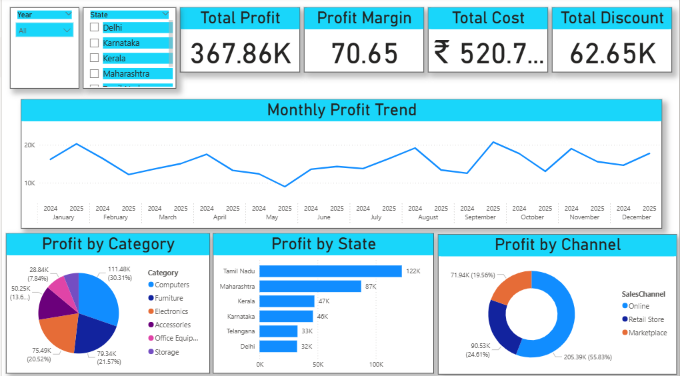

What the dashboard file says about the page in this screenshot:
{"tool":"powerbi","page":{"name":"Profit Analysis","canvas":[1280,720],"ordinal":2},"visuals":[{"type":"card","title":"Total Profit","fields":{"Values":["Sum(Sales.Profit)"]},"box":[336.4,18.9,226.8,122.8],"z":0},{"type":"card","title":"Profit Margin","fields":{"Values":["Sales.Profit Margin"]},"box":[570.7,18.9,226.8,122.8],"z":1000},{"type":"card","title":"Total Cost","fields":{"Values":["Sum(Sales.TotalCost)"]},"box":[805,18.9,226.8,122.8],"z":2000},{"type":"card","title":"Total Discount","fields":{"Values":["Sum(Sales.DiscountAmountt)"]},"box":[1039.4,18.9,226.8,122.8],"z":3000},{"type":"lineChart","title":"Monthly Profit Trend","fields":{"Category":["DimDate.Month","DimDate.Year"],"Y":["Sum(Sales.Profit)"]},"box":[35.9,192.8,1211.3,243.8],"z":4000},{"type":"pieChart","title":"Profit by Category","fields":{"Category":["Products.Category"],"Y":["Sum(Sales.Profit)"]},"box":[7.6,446,385.5,264.6],"z":5000},{"type":"clusteredBarChart","title":"Profit by State","fields":{"Category":["DimState.State"],"Y":["Sum(Sales.Profit)"]},"box":[398.7,446,417.6,264.6],"z":6000},{"type":"donutChart","title":"Profit by Channel","fields":{"Category":["Sales.SalesChannel"],"Y":["Sum(Sales.Profit)"]},"box":[823.9,447.9,451.7,264.6],"z":7000},{"type":"slicer","fields":{"Values":["DimDate.Year"]},"box":[15.1,18.9,130.4,153.1],"z":8000},{"type":"slicer","fields":{"Values":["DimState.State"]},"box":[153.1,18.9,175.7,153.1],"z":9000}]}

Visuals, with their boxes in screenshot pixels (x1, y1, x2, y2), scaled from the page's 1280x720 canvas onto the 680x376 screenshot:
"Total Profit" card: 179,10,299,74
"Profit Margin" card: 303,10,424,74
"Total Cost" card: 428,10,548,74
"Total Discount" card: 552,10,673,74
"Monthly Profit Trend" lineChart: 19,101,663,228
"Profit by Category" pieChart: 4,233,209,371
"Profit by State" clusteredBarChart: 212,233,434,371
"Profit by Channel" donutChart: 438,234,678,372
slicer - DimDate.Year: 8,10,77,90
slicer - DimState.State: 81,10,175,90
